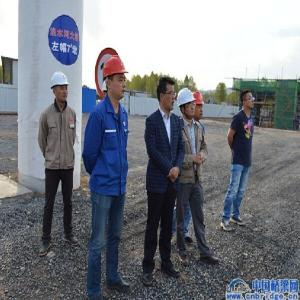none: (156, 75, 176, 114), (241, 88, 256, 113)
red: (103, 56, 129, 104), (191, 89, 205, 121)
white: (50, 69, 70, 107), (177, 86, 196, 121)
